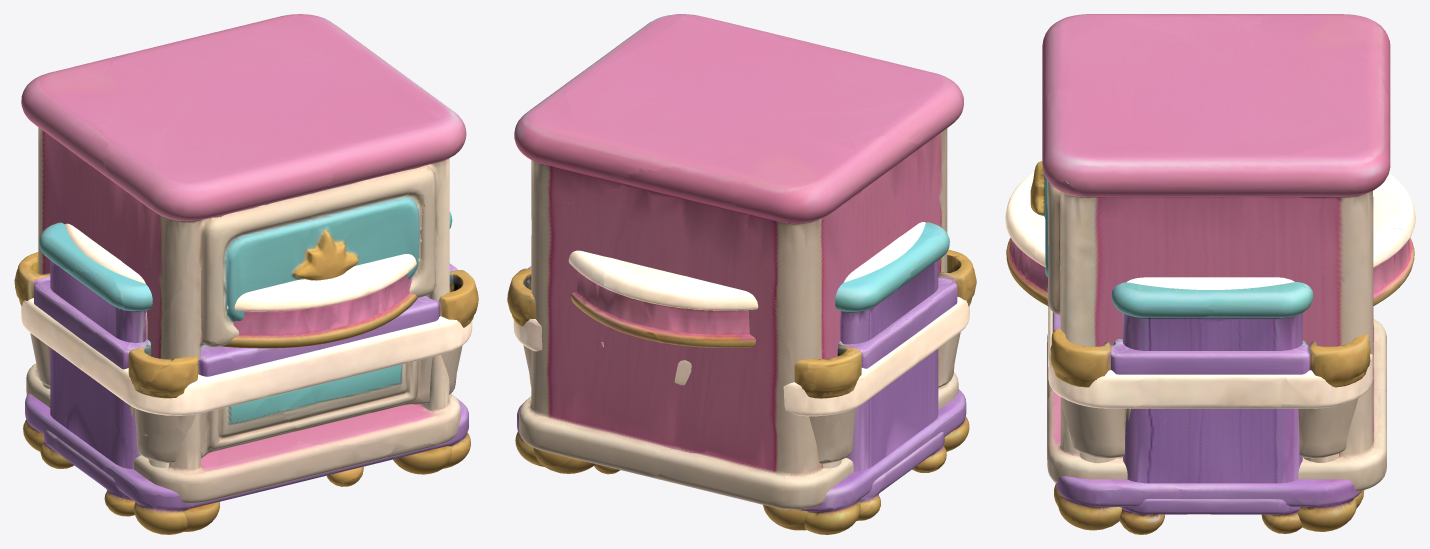
Rendered from store_items_sheet_03_mobile.glb.
3 renders of one model, left to right at view 1: azimuth 30°, elevation 25°; view 2: azimuth 150°, elevation 25°; view 3: azimuth 270°, elevation 25°, orthographic. The views are drawn at different scales.
Visible parts, largest first — view 1: table_night, table_pool, table_coffee, desk_office, table_dining; view 2: table_night, desk_office, table_dining, table_coffee, table_pool; view 3: table_night, desk_office, table_coffee, table_pool, table_dining.
Boxes of the visible parts, left/top/right/bottom form: table_night: left=21, top=14, right=466, bottom=531; table_pool: left=14, top=252, right=478, bottom=463; table_coffee: left=21, top=298, right=472, bottom=534; desk_office: left=39, top=212, right=452, bottom=516; table_dining: left=65, top=214, right=422, bottom=486; table_night: left=514, top=14, right=963, bottom=530; desk_office: left=824, top=222, right=949, bottom=520; table_dining: left=568, top=222, right=925, bottom=474; table_coffee: left=513, top=297, right=969, bottom=534; table_pool: left=507, top=249, right=976, bottom=463; table_night: left=1030, top=14, right=1390, bottom=508; desk_office: left=1111, top=282, right=1313, bottom=534; table_coffee: left=1048, top=306, right=1372, bottom=531; table_pool: left=1050, top=312, right=1370, bottom=458; table_dining: left=1005, top=171, right=1415, bottom=306.
Size of the model in its own units: 1.55 by 1.55 by 1.55.
Materials: 1 (1 with a texture image).
